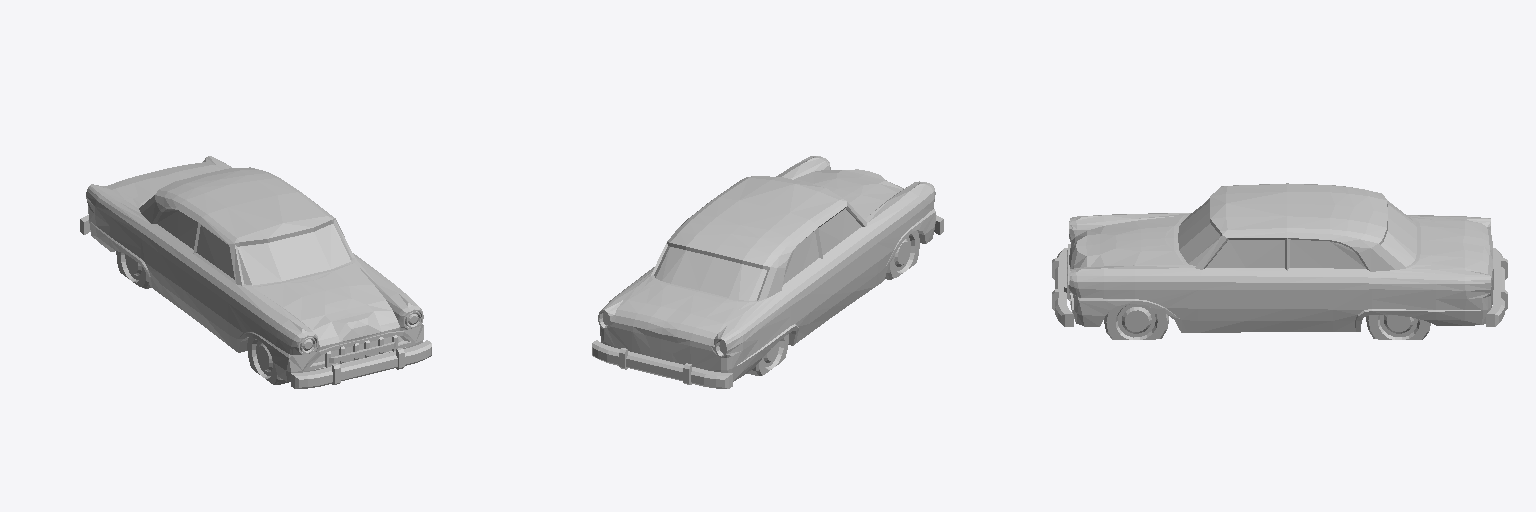
File: car.obj
3 renders of one model, left to right at view 1: azimuth 30°, elevation 25°; view 2: azimuth 150°, elevation 25°; view 3: azimuth 270°, elevation 25°, orthographic.
Parts seen in each view (by area): view 1: Object006_Material_#294_0; view 2: Object006_Material_#294_0; view 3: Object006_Material_#294_0.
Part boxes in pixels (x1,y1,x2,y2): Object006_Material_#294_0: (80, 156, 431, 388); Object006_Material_#294_0: (592, 156, 943, 388); Object006_Material_#294_0: (1052, 183, 1507, 339).
Bounding box in the file's own units: 0.9198 × 0.6509 × 2.56.